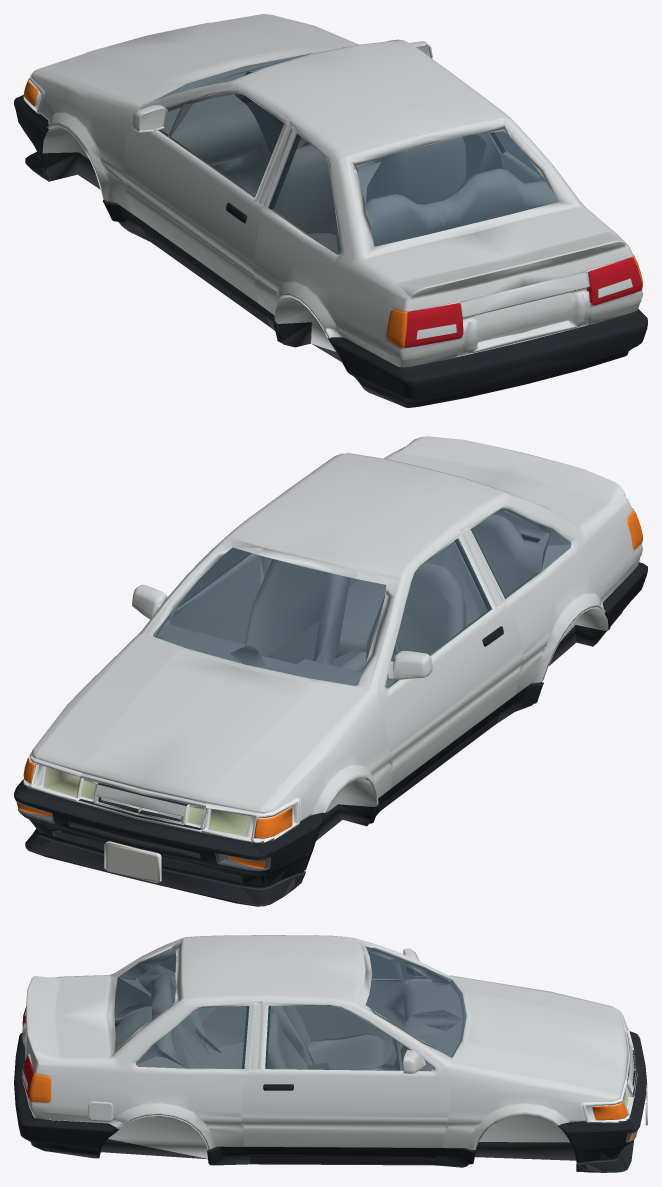
Rendered from levin.glb.
The picture shows the model from 3 angles, top to bottom: view 1: azimuth 30°, elevation 25°; view 2: azimuth 150°, elevation 25°; view 3: azimuth 270°, elevation 25°; orthographic projection. The views are drawn at different scales.
Visible parts, largest first — view 1: Body, Glass_Rear, Glass_Side, Lights_Rear, Glass_Windshield; view 2: Body, Glass_Windshield, Glass_Side, Lights_Front, Plate_Front; view 3: Body, Glass_Side, Glass_Windshield, Glass_Rear, Lights_Front, Lights_Rear, Fuel_Cap.
Boxes of the visible parts, left/top/right/bottom form: Body: left=14, top=14, right=647, bottom=407; Glass_Rear: left=357, top=131, right=559, bottom=246; Glass_Side: left=158, top=92, right=540, bottom=254; Lights_Rear: left=386, top=255, right=642, bottom=348; Glass_Windshield: left=153, top=47, right=345, bottom=100; Body: left=14, top=436, right=647, bottom=906; Glass_Windshield: left=153, top=547, right=386, bottom=685; Glass_Side: left=179, top=509, right=571, bottom=688; Lights_Front: left=16, top=752, right=301, bottom=871; Plate_Front: left=104, top=841, right=161, bottom=882; Body: left=14, top=935, right=646, bottom=1172; Glass_Side: left=136, top=952, right=432, bottom=1071; Glass_Windshield: left=366, top=946, right=466, bottom=1057; Glass_Rear: left=114, top=947, right=176, bottom=1047; Lights_Front: left=580, top=1012, right=637, bottom=1142; Lights_Rear: left=22, top=1006, right=51, bottom=1102; Fuel_Cap: left=87, top=1101, right=113, bottom=1121.
Size of the model in its own units: 1.78 by 1.19 by 4.2.
